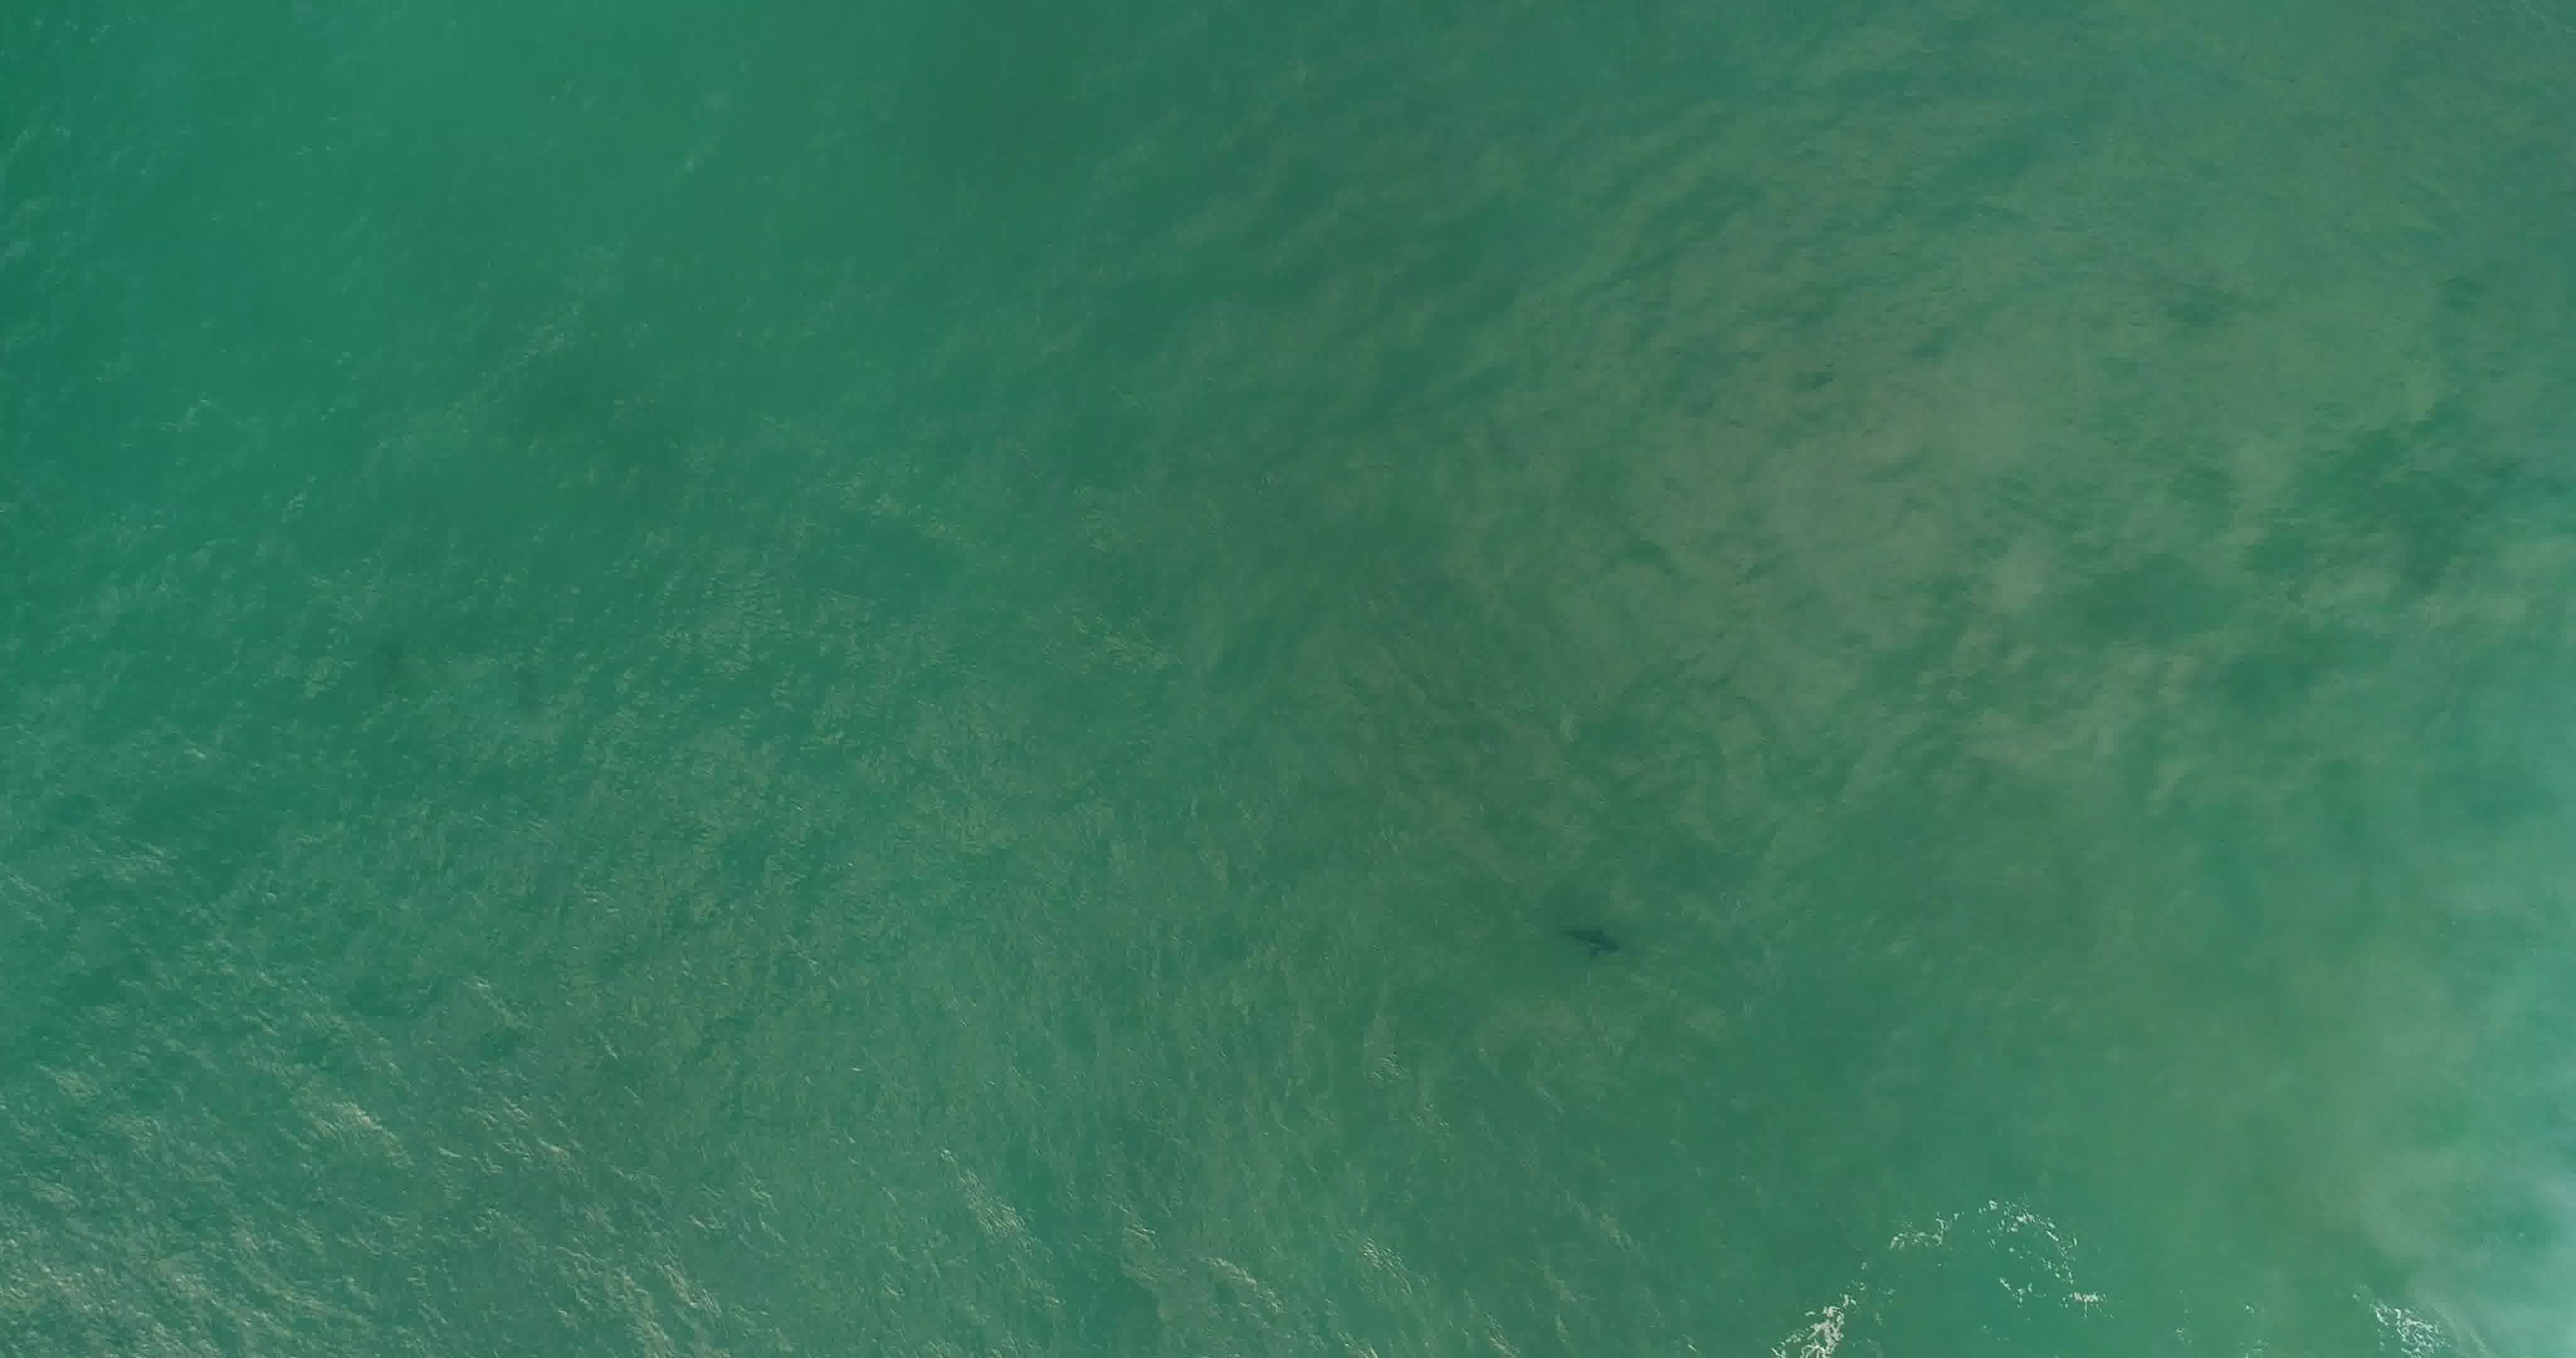shark: (1567, 925, 1627, 961)
